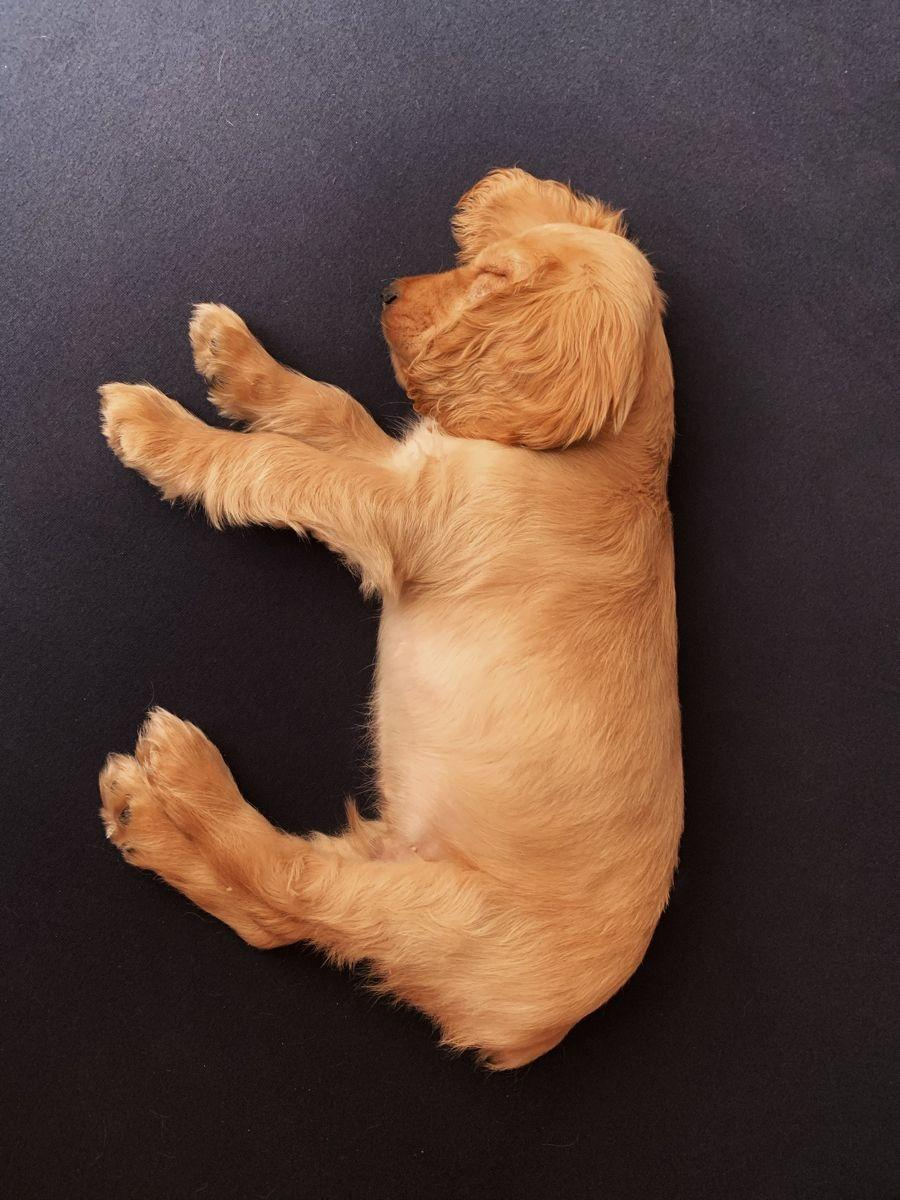puppy-dog: (90, 165, 688, 1074)
